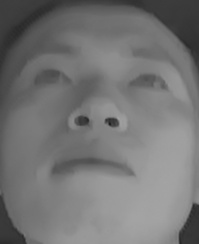eye: (125, 65, 168, 99), (31, 64, 73, 94)
mouth: (48, 144, 138, 190)
